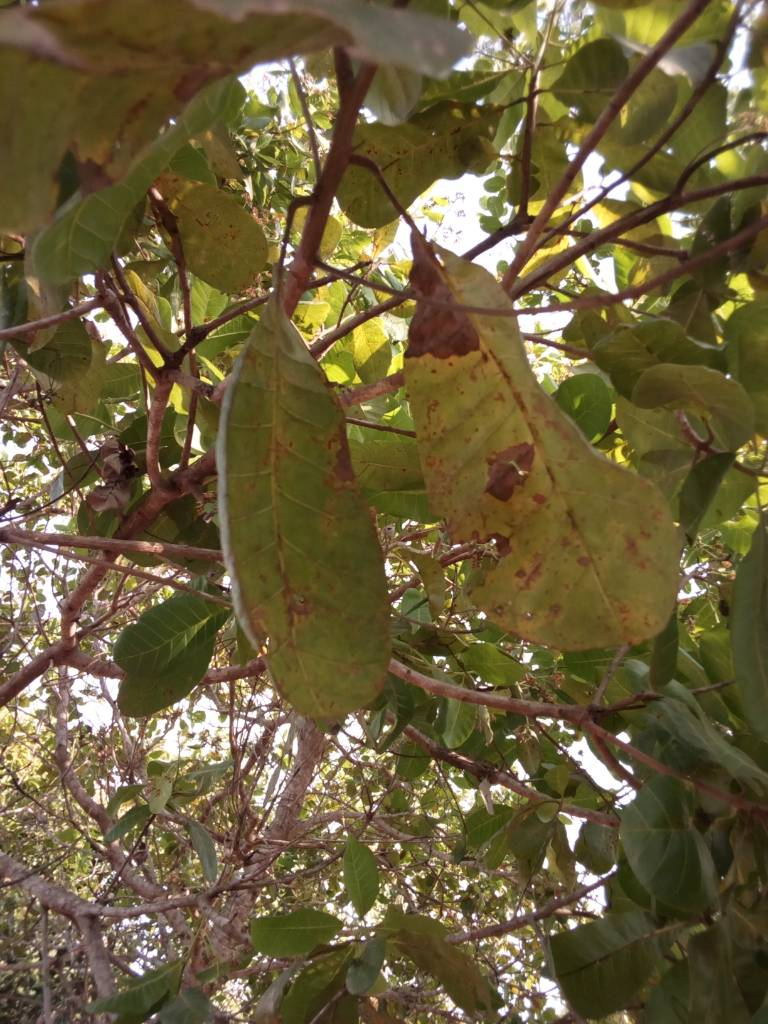Pestalotiose: (410, 283, 682, 650), (335, 122, 446, 221), (185, 180, 265, 289)
